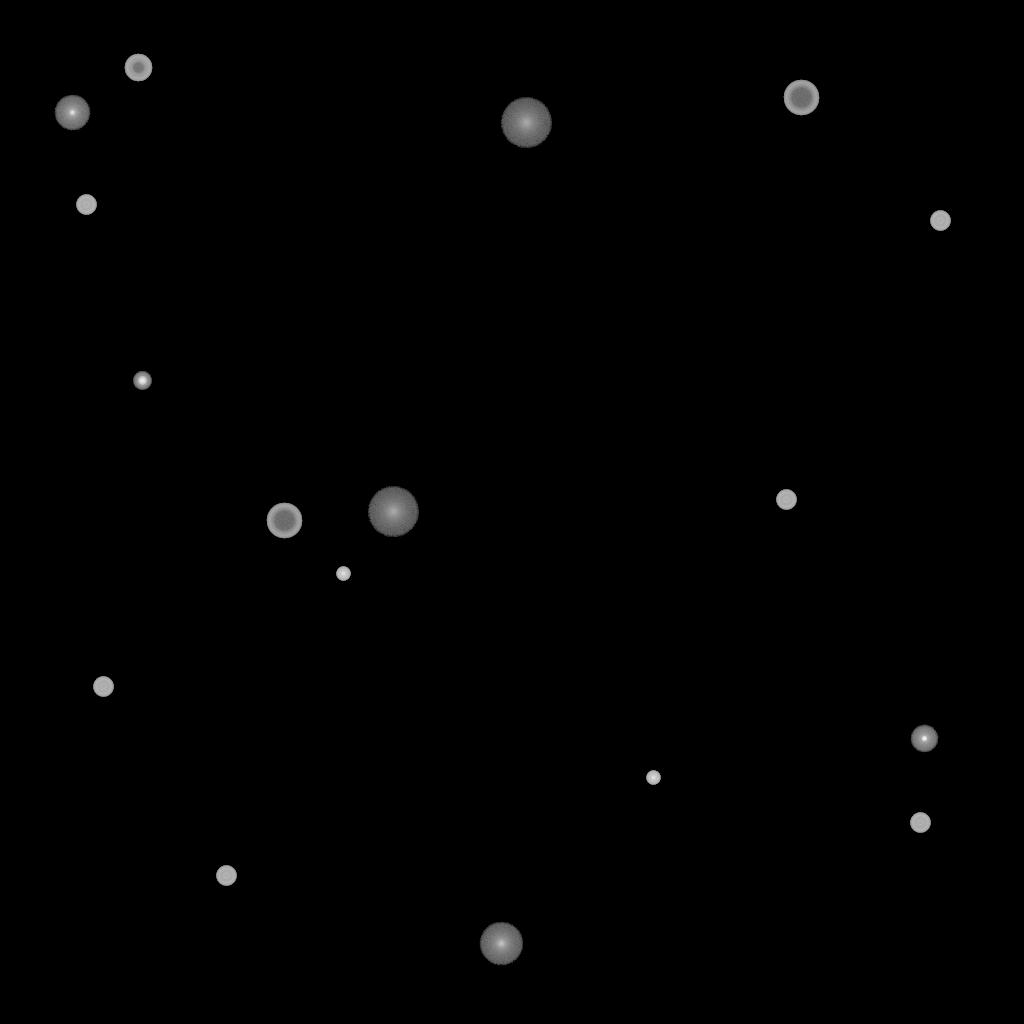depth:-10: (910, 725, 938, 753)
depth:-20: (133, 372, 151, 390)
depth:-30: (646, 771, 660, 785), (336, 567, 350, 581)
depth:-40: (776, 490, 796, 510), (93, 677, 113, 697), (76, 195, 96, 215), (216, 866, 236, 886), (930, 211, 950, 231), (910, 813, 930, 833)
depth:-50: (124, 54, 152, 82)
depth:-60: (266, 503, 302, 539), (783, 80, 819, 116)
depth:0: (54, 95, 90, 131)
depth:10: (479, 922, 523, 966)
depth:20: (367, 487, 419, 537), (500, 98, 552, 148)
